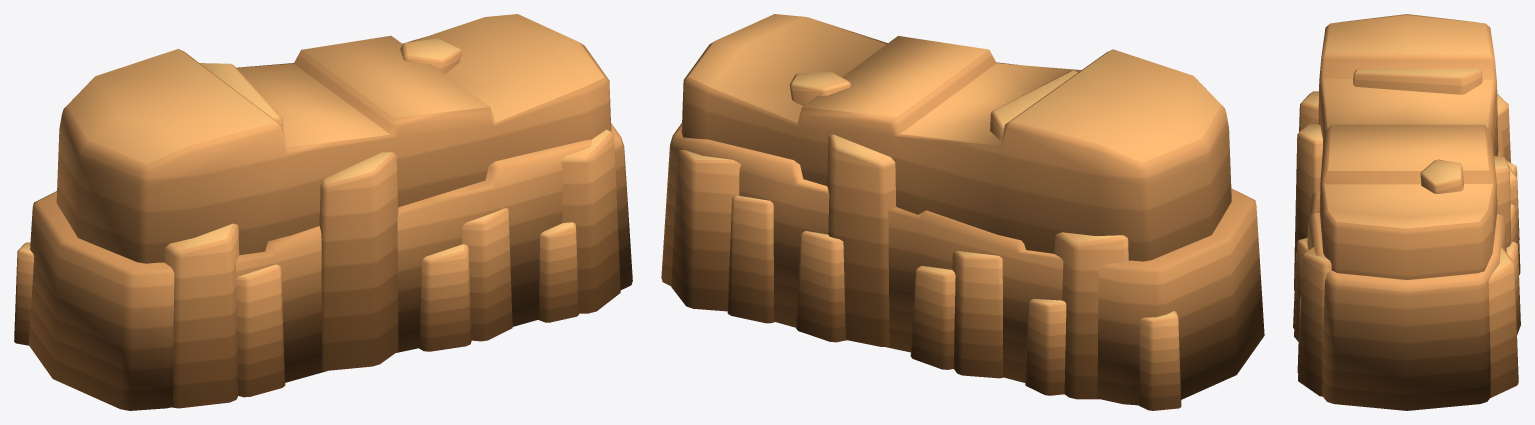
Rendered from cliff_004.fbx.
The picture shows the model from 3 angles, left to right: view 1: azimuth 30°, elevation 25°; view 2: azimuth 150°, elevation 25°; view 3: azimuth 270°, elevation 25°; orthographic projection. The views are drawn at different scales.
Parts seen in each view (by area): view 1: cliff.004; view 2: cliff.004; view 3: cliff.004.
Part boxes in pixels (x1=…): cliff.004: x1=14, y1=14, x2=632, y2=410; cliff.004: x1=661, y1=14, x2=1264, y2=410; cliff.004: x1=1293, y1=14, x2=1520, y2=410.
Size of the model in its own units: 175 by 76.8 by 76.1.
